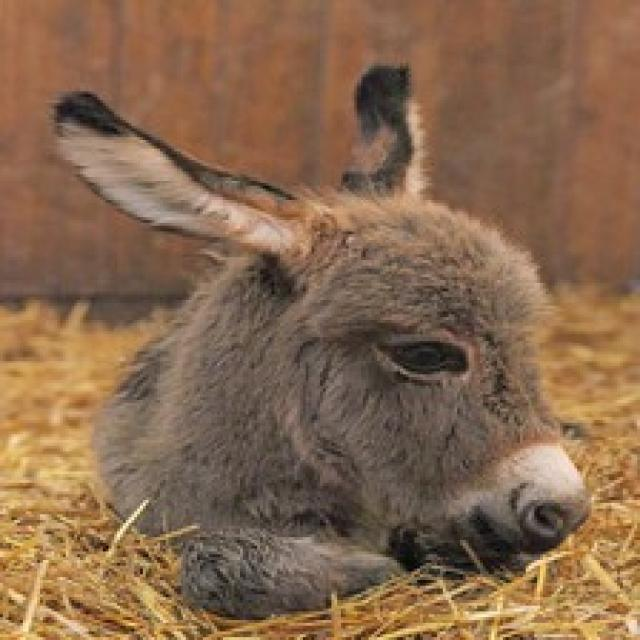Donkey: (29, 36, 614, 608)
